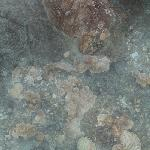dead: (1, 3, 147, 147)
